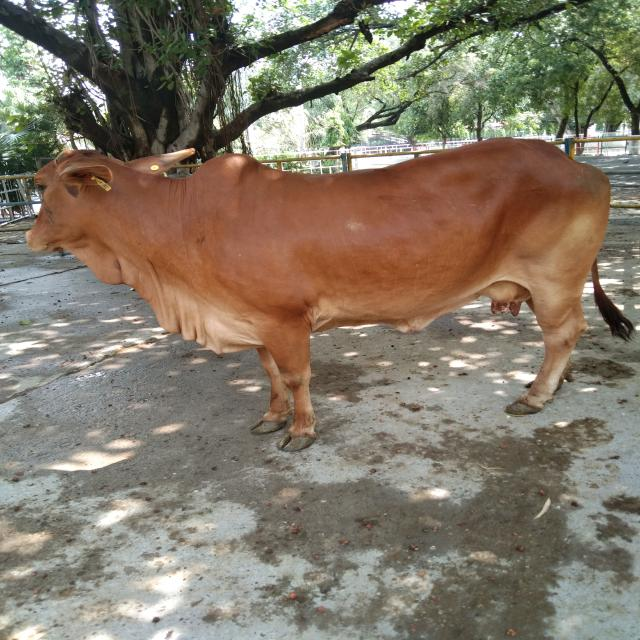1: (179, 154, 282, 178)
Hoof: (277, 430, 317, 452), (249, 417, 287, 435), (504, 399, 542, 416)
